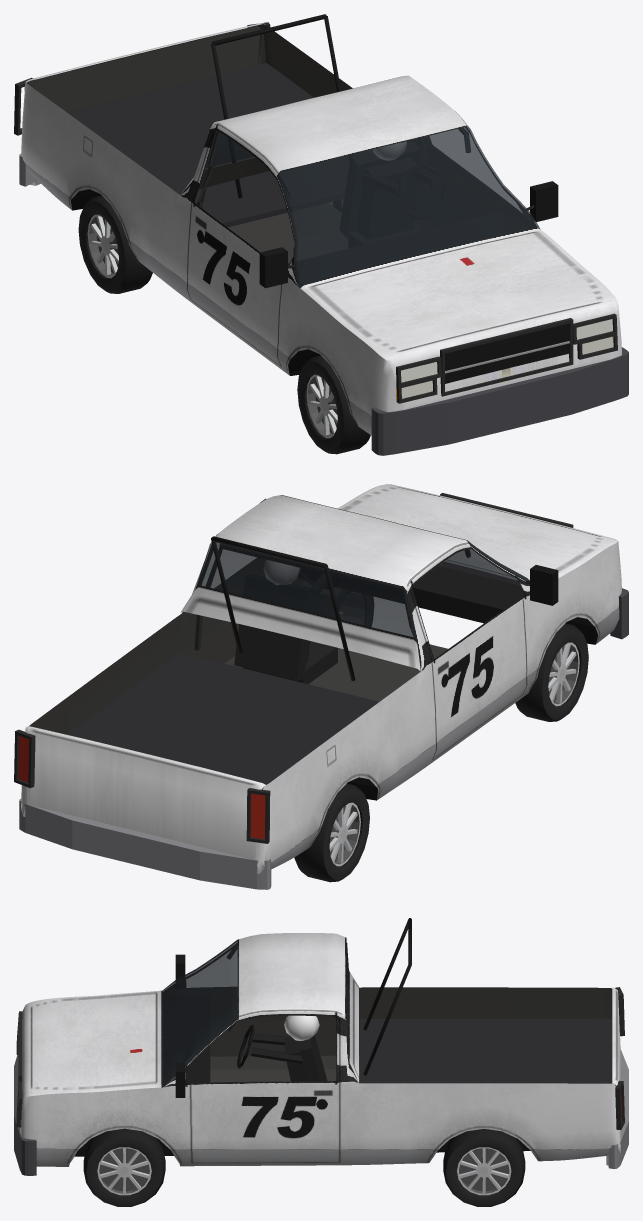
3 renders of one model, top to bottom at view 1: azimuth 30°, elevation 25°; view 2: azimuth 150°, elevation 25°; view 3: azimuth 270°, elevation 25°, orthographic. The views are drawn at different scales.
Parts seen in each view (by area): view 1: body, wheel_rr, wheel_fr; view 2: body, wheel_rr, wheel_fr, wheel_fl; view 3: body, wheel_fl, wheel_rl.
Part boxes in pixels (x1,y1,x2,y2): body: (14,14,628,455); wheel_rr: (78,195,152,293); wheel_fr: (297,355,370,454); body: (14,484,628,889); wheel_rr: (294,783,369,882); wheel_fr: (515,623,588,721); wheel_fl: (313,589,373,626); body: (14,918,628,1175); wheel_fl: (83,1128,165,1206); wheel_rl: (443,1129,525,1206).
Size of the model in its own units: 2.34 by 2.03 by 5.17.
2 materials, 1 textured.
